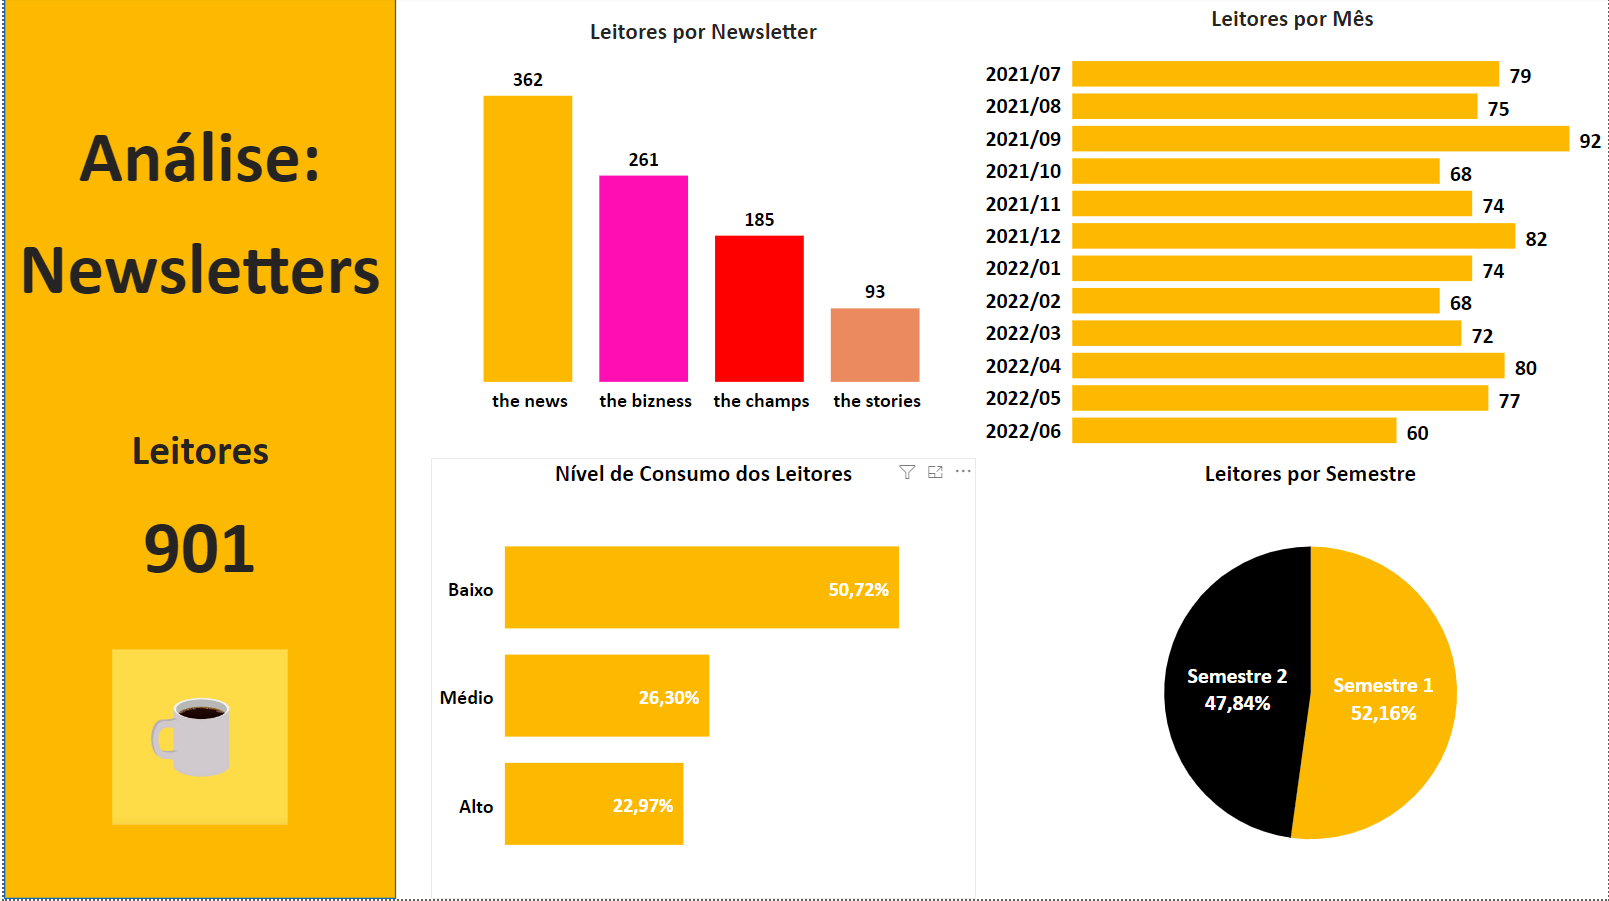

The page's visual inventory and layout, read from the dashboard file:
{"tool":"powerbi","page":{"name":"Newsletters","canvas":[1280,720],"ordinal":1},"visuals":[{"type":"clusteredColumnChart","title":"Leitores por Newsletter","fields":{"Category":["dados_limpos.Newsletter"],"Y":["CountNonNull(dados_limpos.codigo)"]},"box":[340.6,15.2,435.2,325.4],"z":0},{"type":"clusteredBarChart","title":"Leitores por Mês","fields":{"Category":["dados_limpos.lastOpened.Variation.Hierarquia de datas.Mês"],"Y":["CountNonNull(dados_limpos.codigo)"]},"box":[811.3,5.1,469,367.6],"z":1000},{"type":"clusteredBarChart","title":"Nível de Consumo dos Leitores","fields":{"Y":["CountNonNull(dados_limpos.codigo)"],"Category":["dados_limpos.Consumo"]},"box":[340.6,367.6,435.2,352.4],"z":2000},{"type":"pieChart","title":"Leitores por Semestre","fields":{"Category":["dados_limpos.Semestre"],"Y":["CountNonNull(dados_limpos.codigo)"]},"box":[811.3,367.6,463.9,352.4],"z":3000},{"type":"shape","box":[0,0,312.7,720],"z":3500},{"type":"textbox","box":[0,86.3,313.1,206.1],"z":4000},{"type":"card","title":"Leitores","fields":{"Values":["CountNonNull(dados_limpos.codigo)"]},"box":[0,340.7,313.1,143.2],"z":4001},{"type":"image","box":[81.1,487.6,150.4,206.2],"z":4002}]}

Visuals, with their boxes in screenshot pixels (x1, y1, x2, y2), scaled from the page's 1280x720 canvas onto the 1609x901 screenshot:
"Leitores por Newsletter" clusteredColumnChart: (428,19,975,426)
"Leitores por Mês" clusteredBarChart: (1020,6,1608,466)
"Nível de Consumo dos Leitores" clusteredBarChart: (428,460,975,900)
"Leitores por Semestre" pieChart: (1020,460,1603,900)
shape: (0,0,393,900)
textbox: (0,108,394,366)
"Leitores" card: (0,426,394,606)
image: (102,610,291,868)
